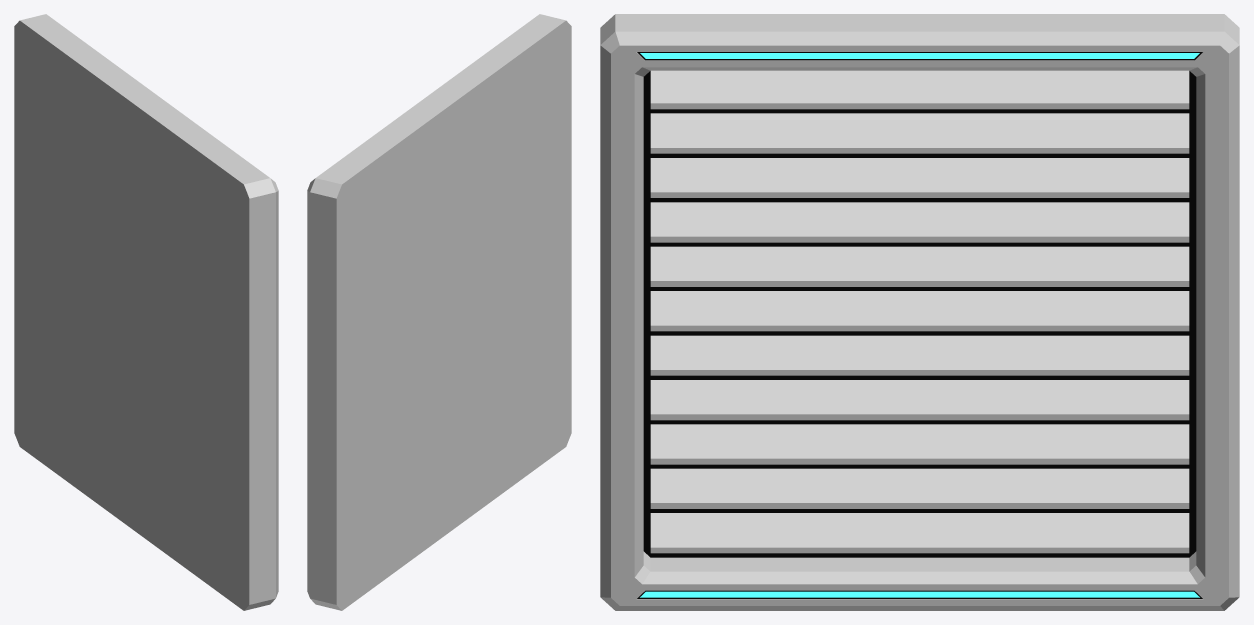
File: SM_WallDecor_Vent_Wide.fbx
3 views of the same model, side by side, from view 1: azimuth 30°, elevation 25°; view 2: azimuth 150°, elevation 25°; view 3: azimuth 270°, elevation 25° (orthographic). The views are drawn at different scales.
Visible parts, largest first — view 1: SM_WallDecor_Vent_Wide.001; view 2: SM_WallDecor_Vent_Wide.001; view 3: SM_WallDecor_Vent_Wide.001.
Boxes of the visible parts, box(x1,y1,x2,y2) form: SM_WallDecor_Vent_Wide.001: box(14, 14, 278, 610); SM_WallDecor_Vent_Wide.001: box(307, 14, 571, 610); SM_WallDecor_Vent_Wide.001: box(600, 14, 1239, 610).
Size of the model in its own units: 13.32 by 163 by 163.
